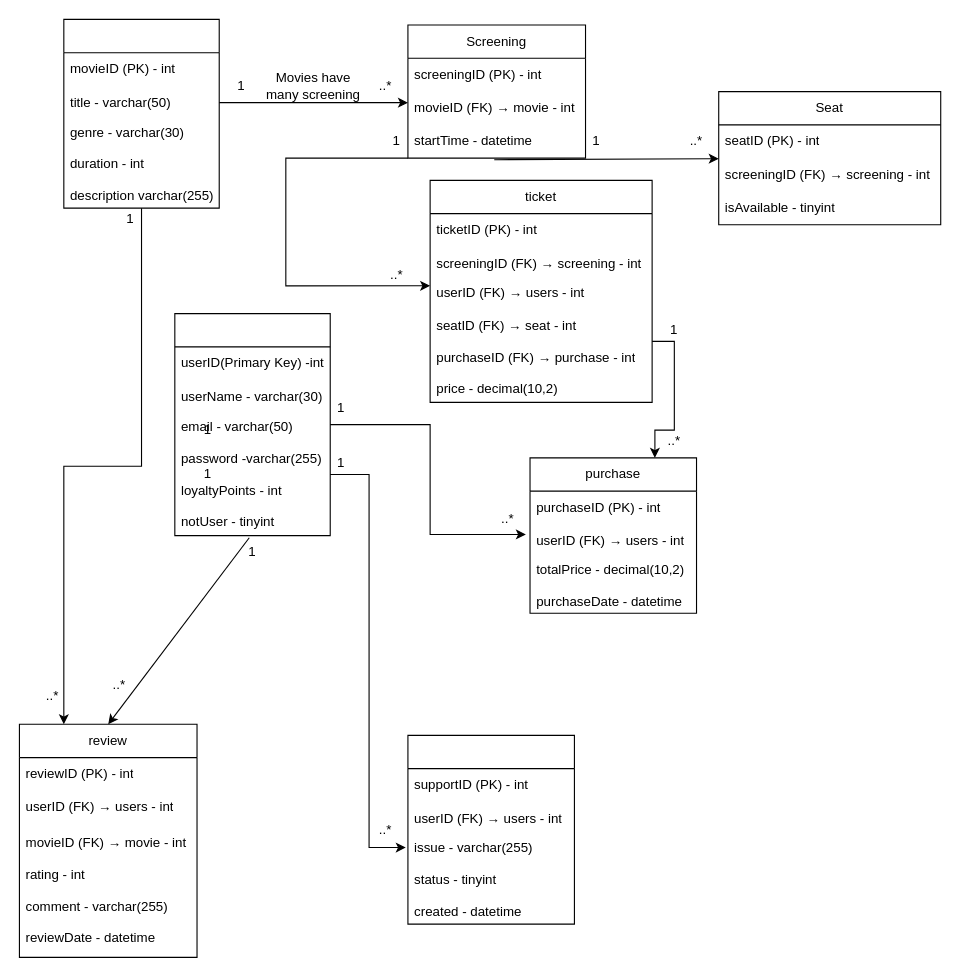
Image size: 960x977. Some labels were removed from this diagram. The box of each missing label's shape, as (x1, y1, x2, y2) in pixels:
customerservice: (407, 734, 574, 924)
Movies: (63, 18, 219, 208)
Users: (174, 312, 330, 536)
